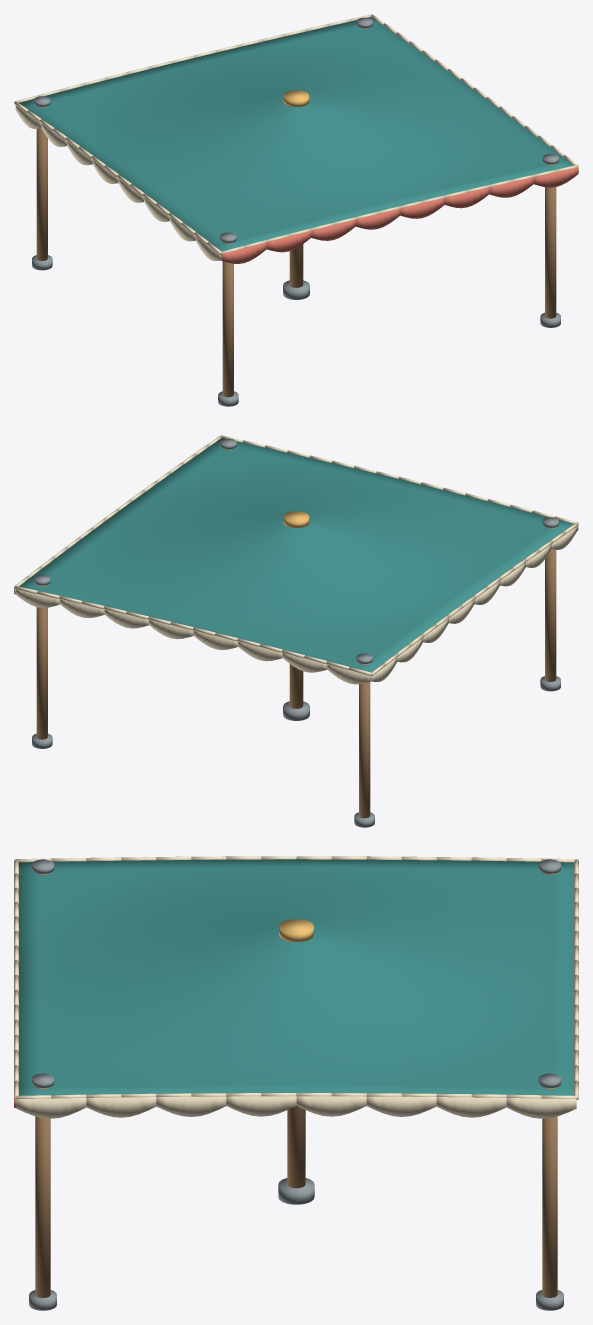
File: AH03_CampShade.fbx
The picture shows the model from 3 angles, top to bottom: view 1: azimuth 30°, elevation 25°; view 2: azimuth 150°, elevation 25°; view 3: azimuth 270°, elevation 25°; orthographic projection. The views are drawn at different scales.
Visible parts, largest first — view 1: AH03_CampShade_AH03_CanvasMint, AH03_CampShade_AH03_CanvasCream, AH03_CampShade_AH03_Wood, AH03_CampShade_AH03_CanvasRose, AH03_CampShade_AH03_Metal; view 2: AH03_CampShade_AH03_CanvasMint, AH03_CampShade_AH03_CanvasCream, AH03_CampShade_AH03_Wood, AH03_CampShade_AH03_Metal; view 3: AH03_CampShade_AH03_CanvasMint, AH03_CampShade_AH03_CanvasCream, AH03_CampShade_AH03_Wood, AH03_CampShade_AH03_Metal, AH03_CampShade_AH03_Gold.
Part boxes in pixels (x1=…): AH03_CampShade_AH03_CanvasMint: x1=19, y1=17, x2=573, y2=251; AH03_CampShade_AH03_CanvasCream: x1=14, y1=14, x2=578, y2=260; AH03_CampShade_AH03_Wood: x1=36, y1=27, x2=556, y2=397; AH03_CampShade_AH03_CanvasRose: x1=221, y1=167, x2=578, y2=263; AH03_CampShade_AH03_Metal: x1=32, y1=17, x2=560, y2=406; AH03_CampShade_AH03_CanvasMint: x1=19, y1=438, x2=573, y2=672; AH03_CampShade_AH03_CanvasCream: x1=14, y1=435, x2=578, y2=684; AH03_CampShade_AH03_Wood: x1=36, y1=448, x2=556, y2=818; AH03_CampShade_AH03_Metal: x1=32, y1=438, x2=560, y2=827; AH03_CampShade_AH03_CanvasMint: x1=19, y1=859, x2=573, y2=1095; AH03_CampShade_AH03_CanvasCream: x1=14, y1=856, x2=578, y2=1118; AH03_CampShade_AH03_Wood: x1=35, y1=873, x2=557, y2=1297; AH03_CampShade_AH03_Metal: x1=29, y1=859, x2=563, y2=1310; AH03_CampShade_AH03_Gold: x1=279, y1=919, x2=313, y2=941.
Size of the model in its own units: 807 by 428 by 807.
